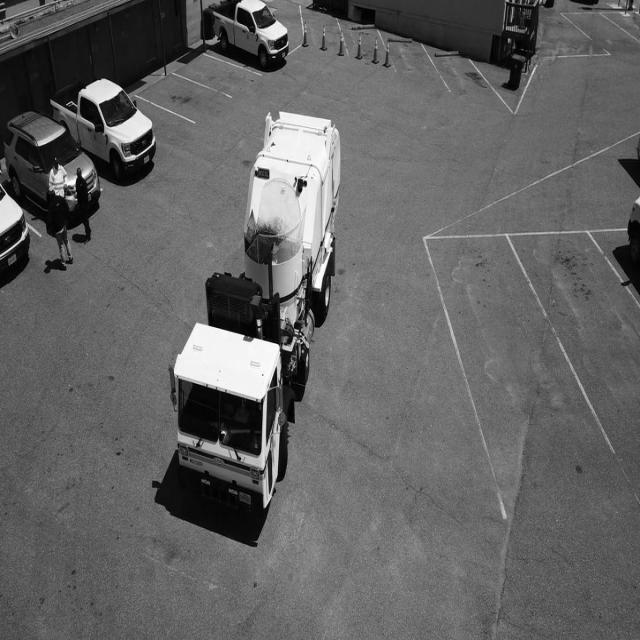Garbage Truck: (175, 112, 341, 519)
